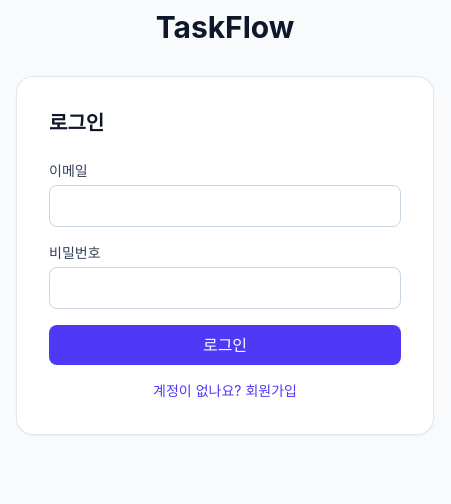
로그인 화면 › 서버 검증 오류는 서버가 준 메시지를 보여준다
The image size is (451, 504).
Type "a@b" into the field labelled "이메일" at [225, 206], box [49,185,401,227]
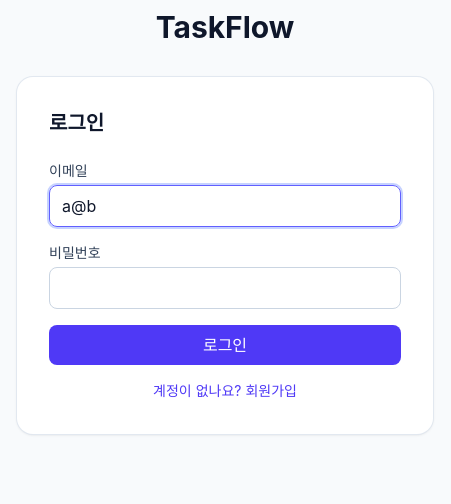
Type "x" into the password field labelled "비밀번호" at [225, 288], box [49,267,401,309]
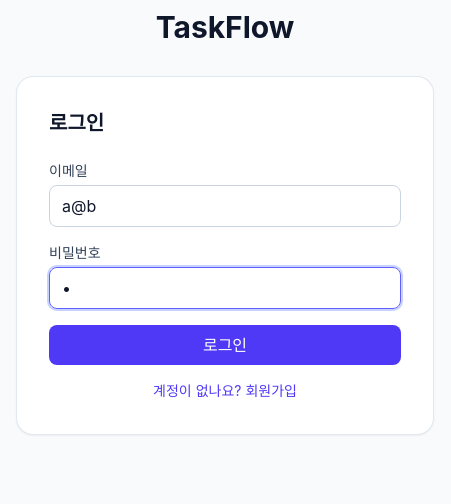
Click the button "로그인" at [225, 345], box [49,325,401,365]
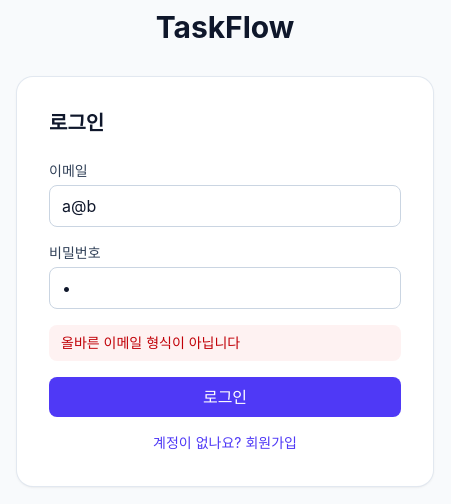
Expected: the message reads "올바른 이메일 형식이 아닙니다", [61,334,240,351]
